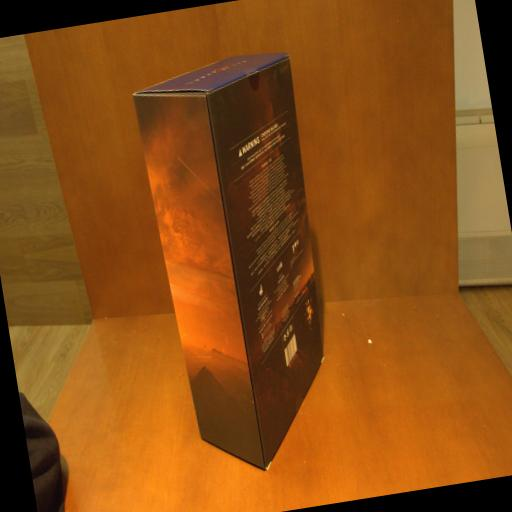superman: (130, 47, 352, 479)
